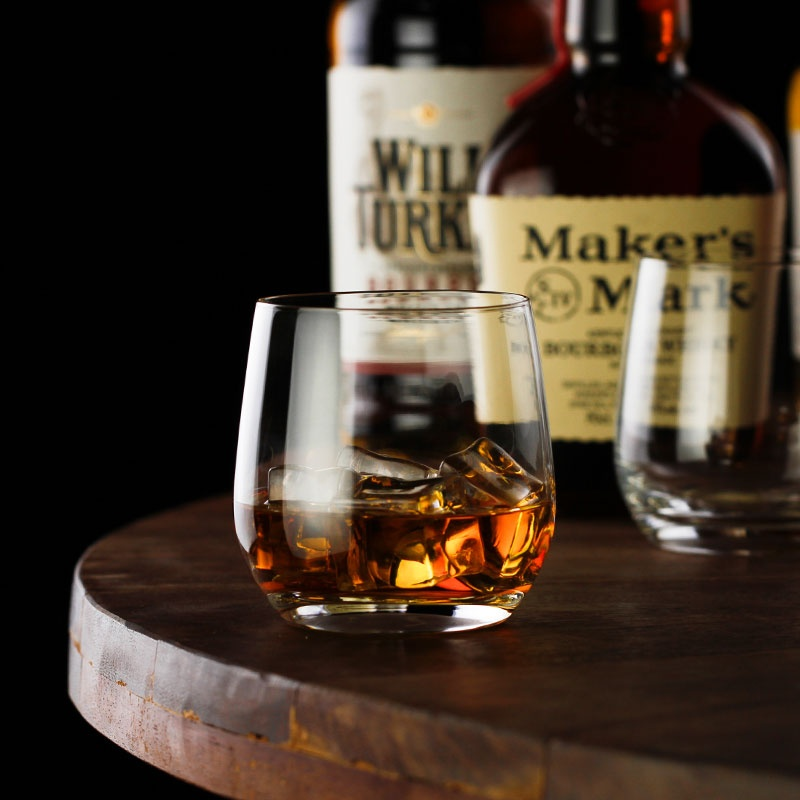whiskey: (226, 285, 549, 644)
